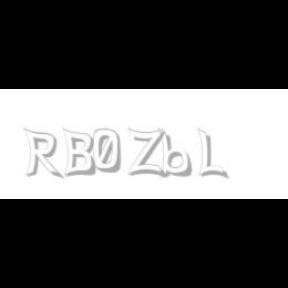0: (94, 128, 124, 174)
B: (62, 128, 96, 178)
L: (198, 128, 226, 180)
R: (23, 128, 61, 180)
Z: (128, 128, 164, 178)
b: (157, 128, 195, 178)
